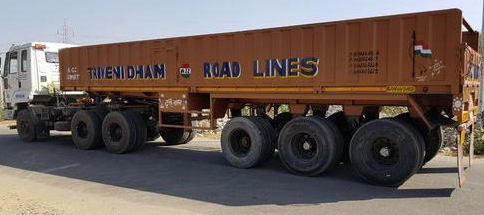truck: (1, 6, 482, 193)
